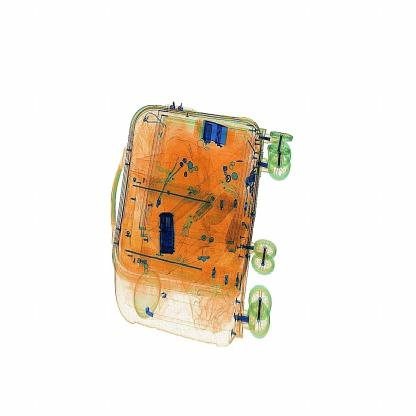scissors: (155, 206, 176, 259)
